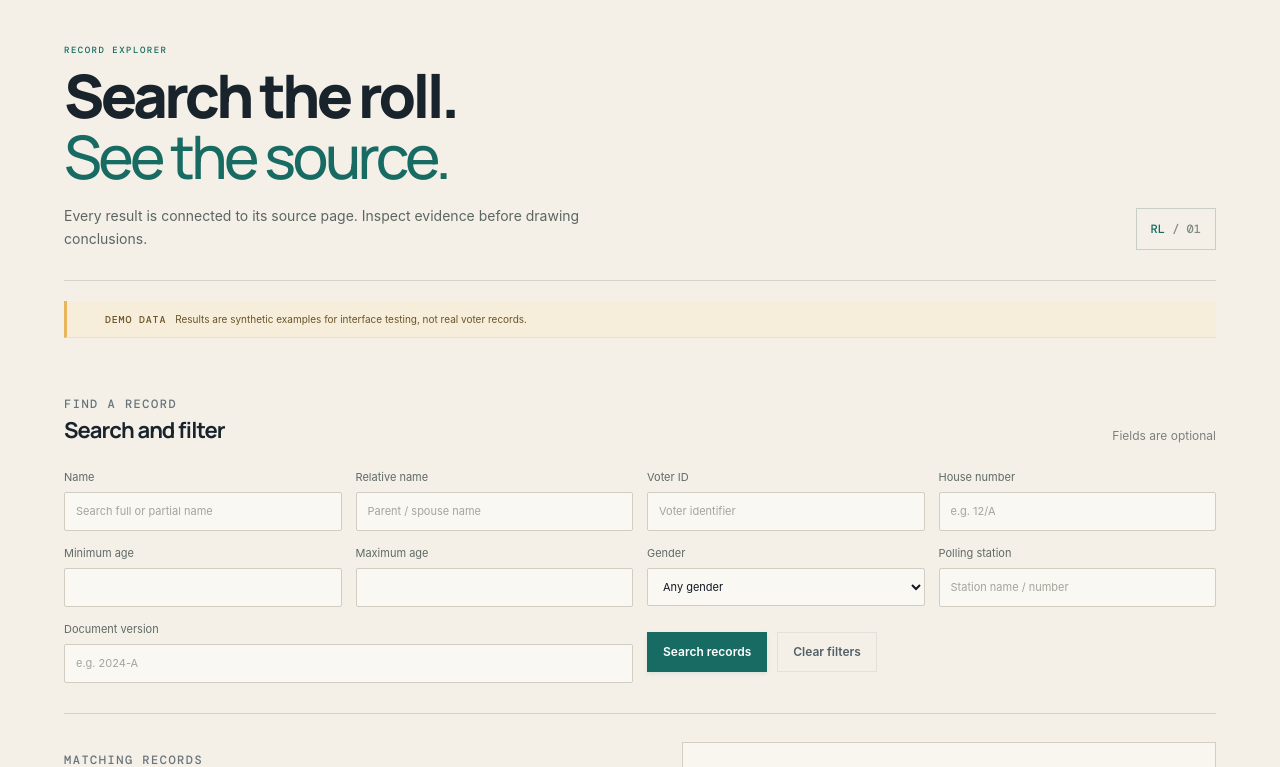
Test: ExplorePage › rejects invalid age ranges
This screenshot has width=1280, height=767.
Type "70" into the number field labelled "Minimum age". click: {"x": 203, "y": 588}
box: x1=64 y1=568 x2=342 y2=607
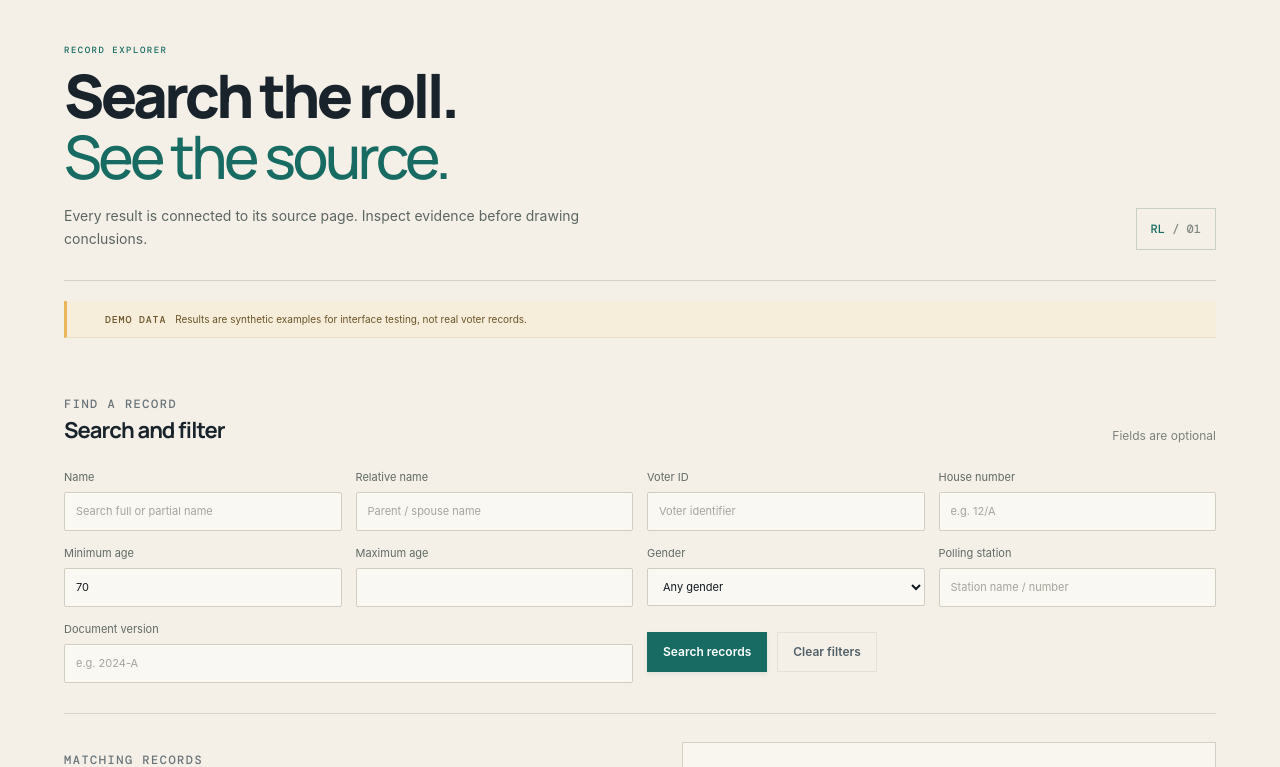
Type "20" into the number field labelled "Maximum age". click: {"x": 494, "y": 588}
box: x1=356 y1=568 x2=633 y2=607
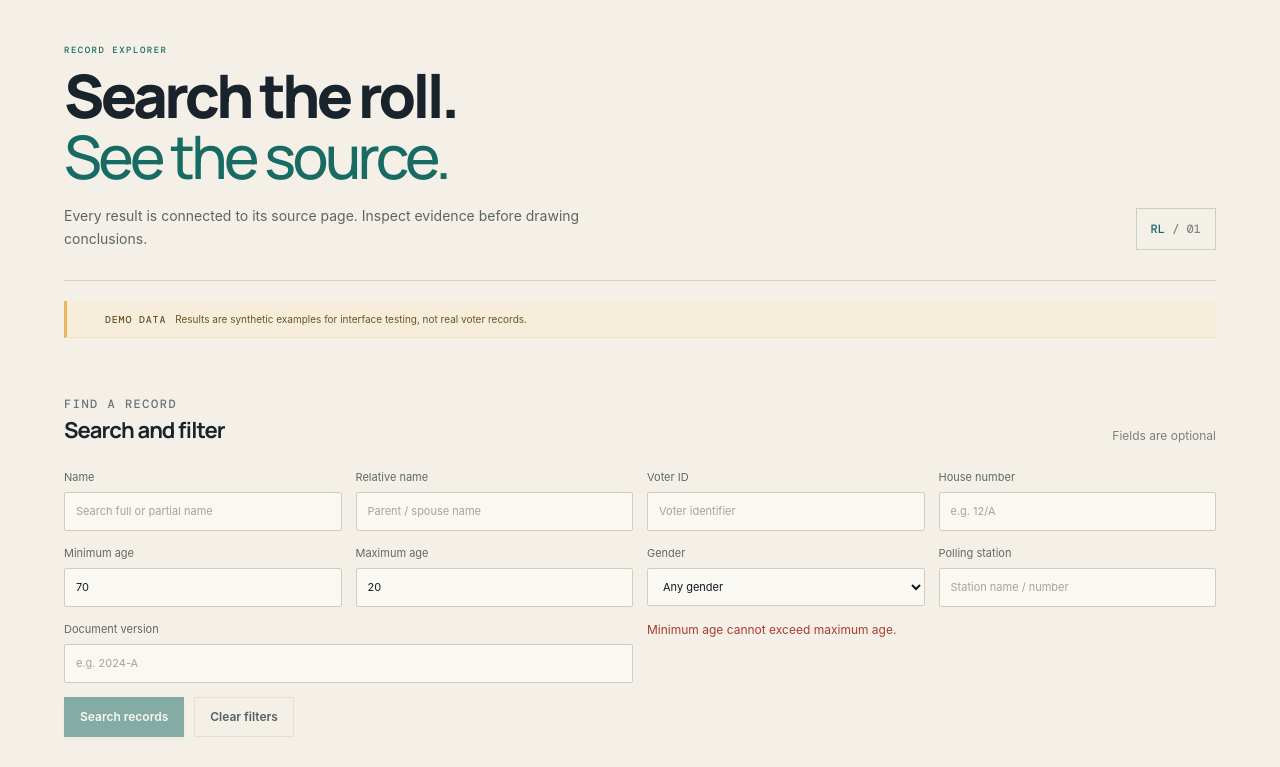
Check: the text "Minimum age cannot exceed maximum age." is shown, box x1=647 y1=622 x2=896 y2=637
